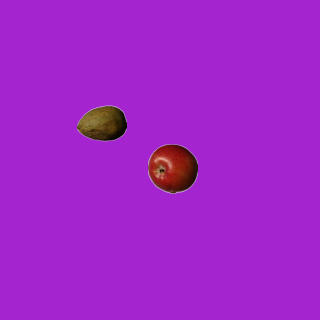Apple Braeburn: (147, 143, 197, 193)
Papaya: (76, 98, 126, 148)
